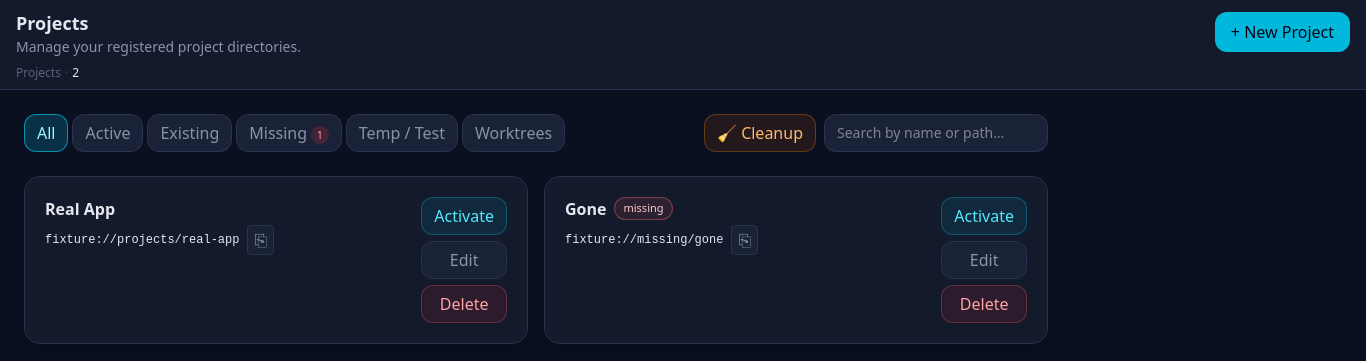
Test case: ProjectsPage view filters › shows only existing (non-missing) projects in the "Existing" filter
Note: Switch to Existing filter — only non-missing projects are shown
What coordinates should you click on to do the following:
click the tab "Existing"
I would click on:
 (190, 132)
Its box is left=148, top=114, right=232, bottom=152.
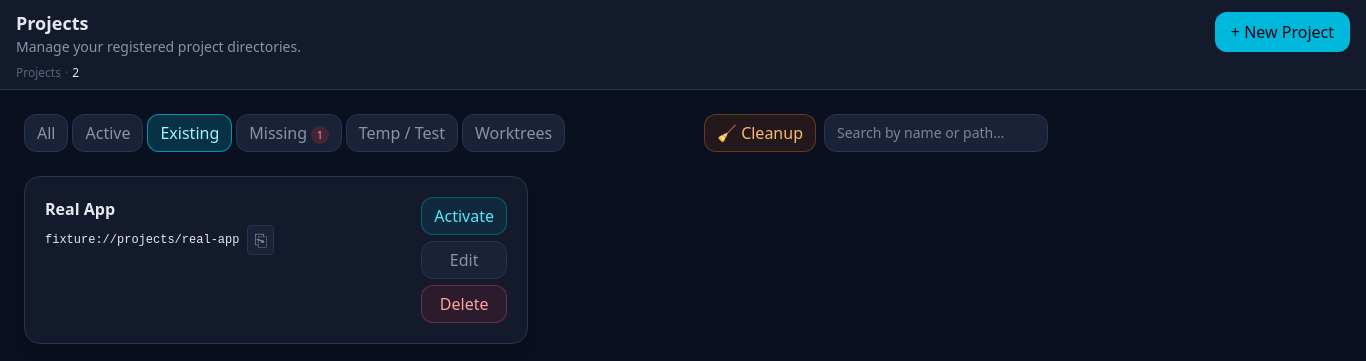
Expected: the heading "Real App" is shown, left=45, top=196, right=115, bottom=220
Now the heading "Gone" is gone
